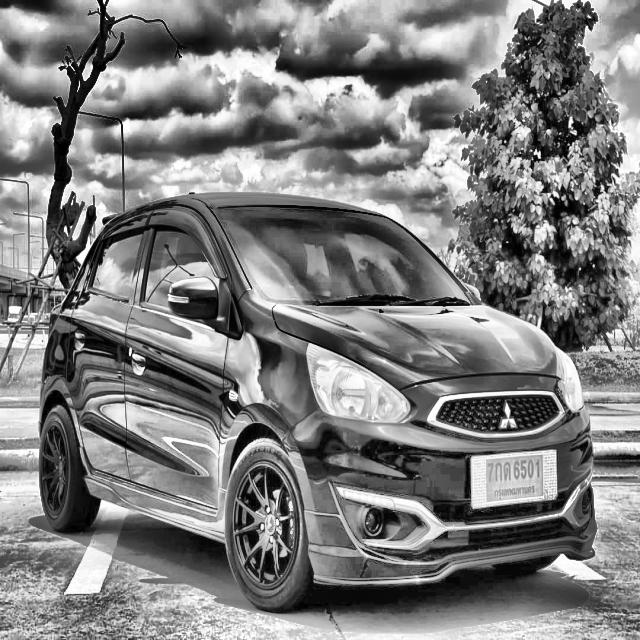license-plate: (484, 452, 545, 505)
